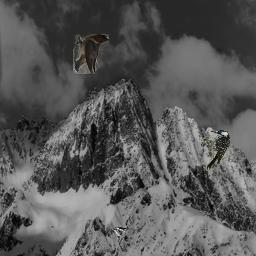Swallow: (73, 34, 109, 74), (113, 227, 126, 238)
Woodpecker: (201, 130, 230, 170)
